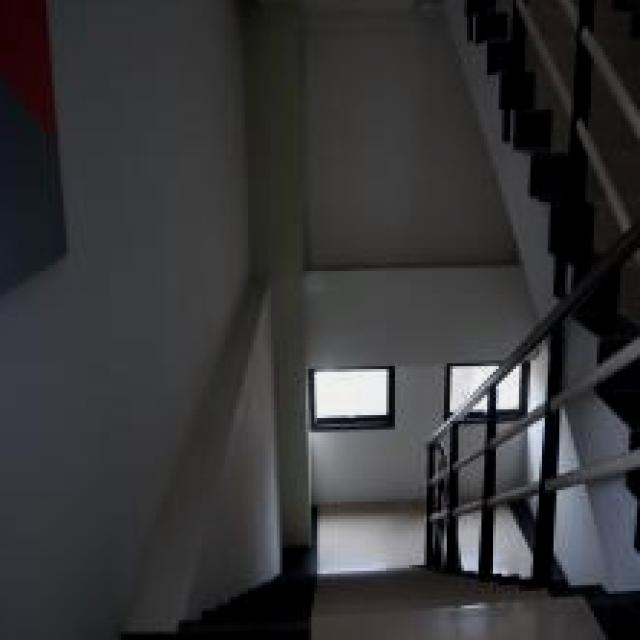downstair: (277, 574, 511, 640)
